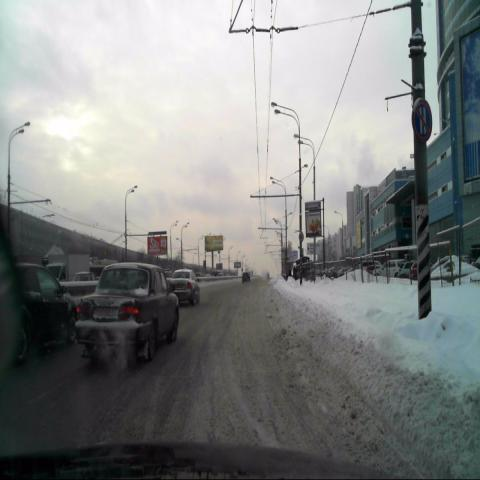3_30: (411, 98, 433, 144)
